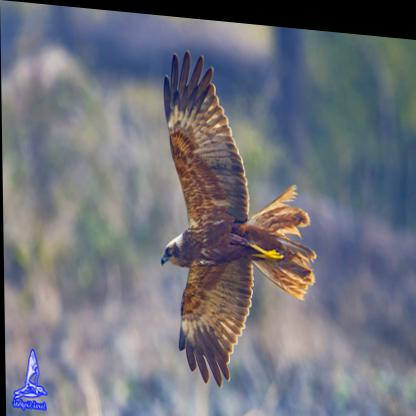Burung: (159, 52, 317, 388)
